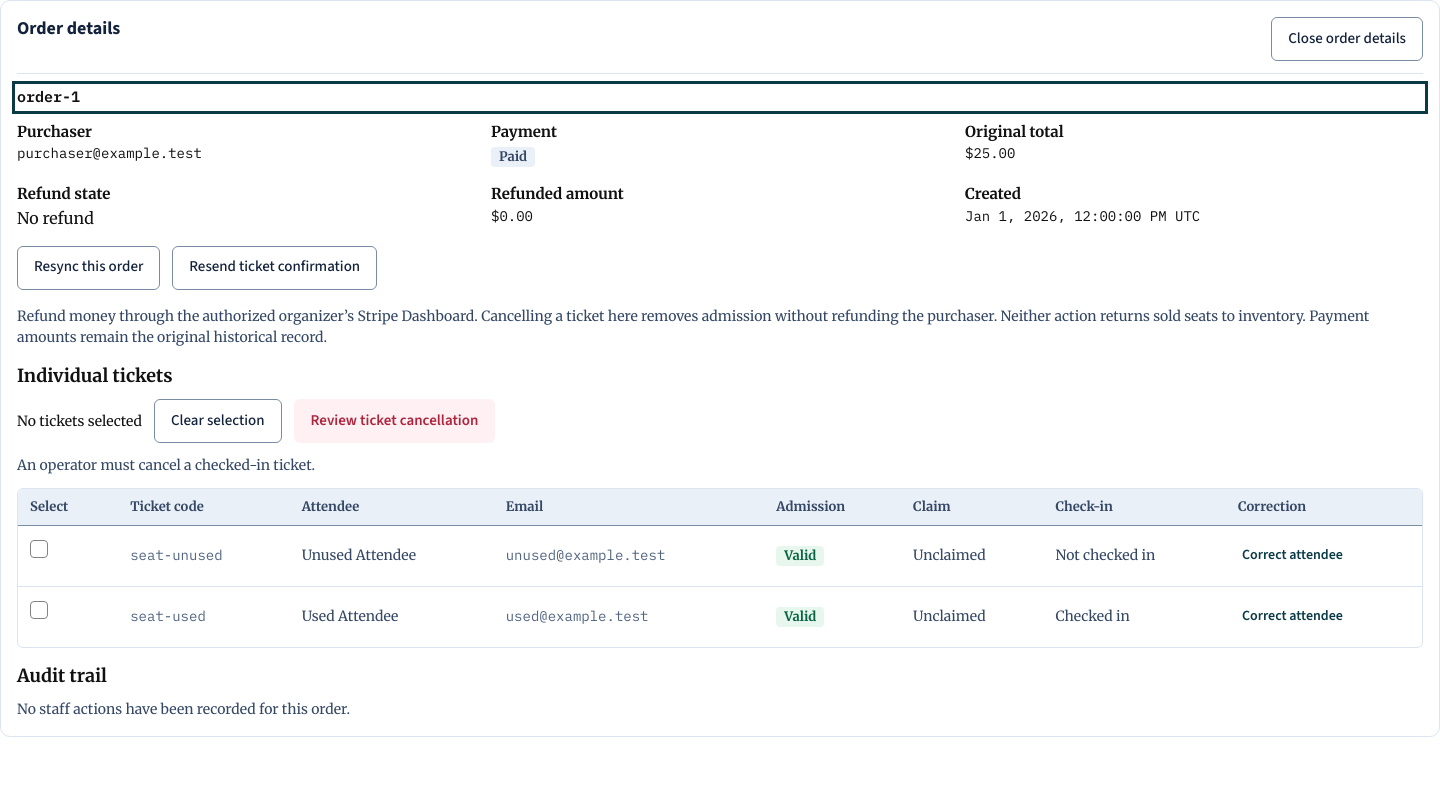
Test: staff cancellation authority › keeps staff selection available to retry when the current order cannot be checked
The width and height of the screenshot is (1440, 810).
Click the checkbox named "Select Unused Attendee" next to "seat-unused" at (39, 549), box [30,540,48,558]
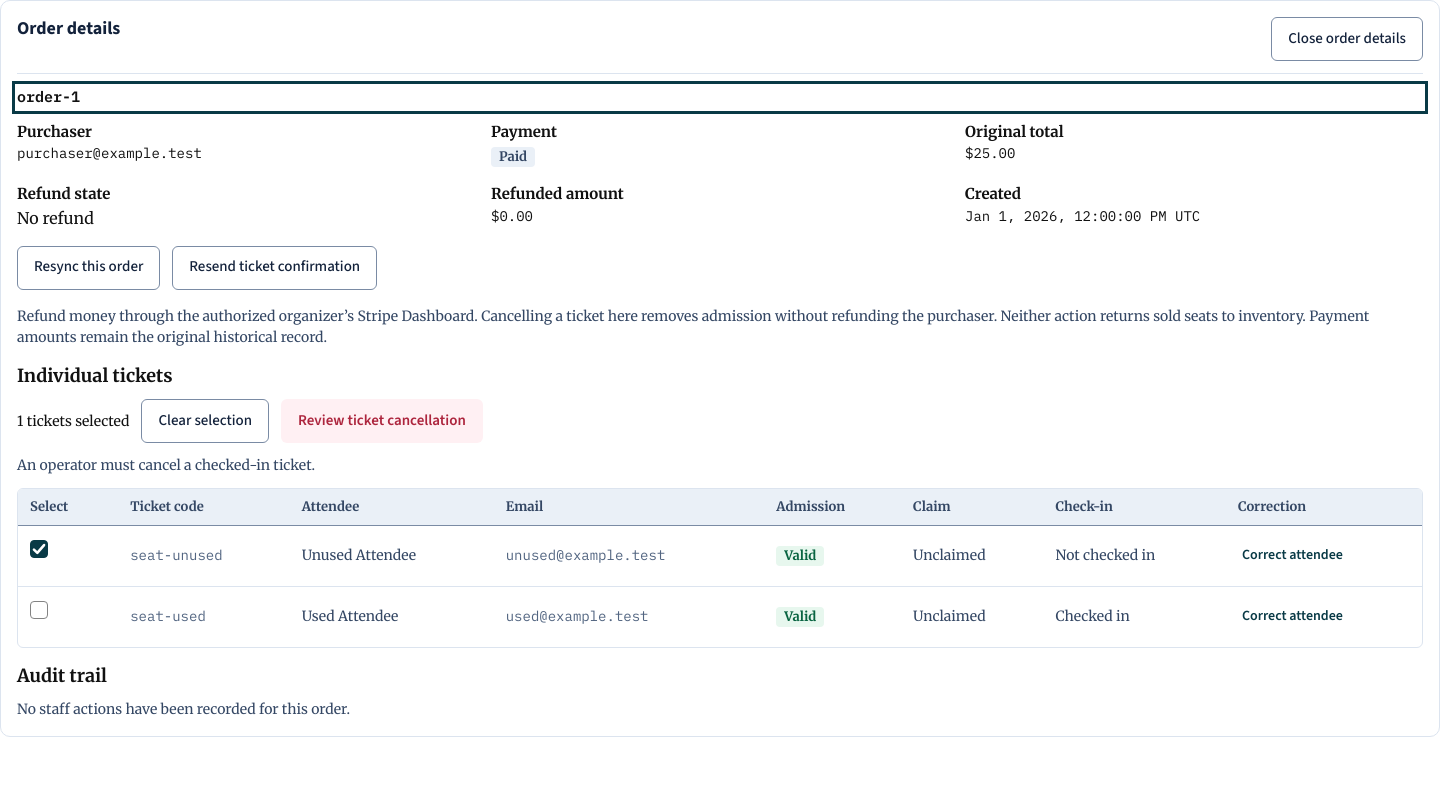
Click the button "Review ticket cancellation" at (382, 421), box [281,399,483,443]
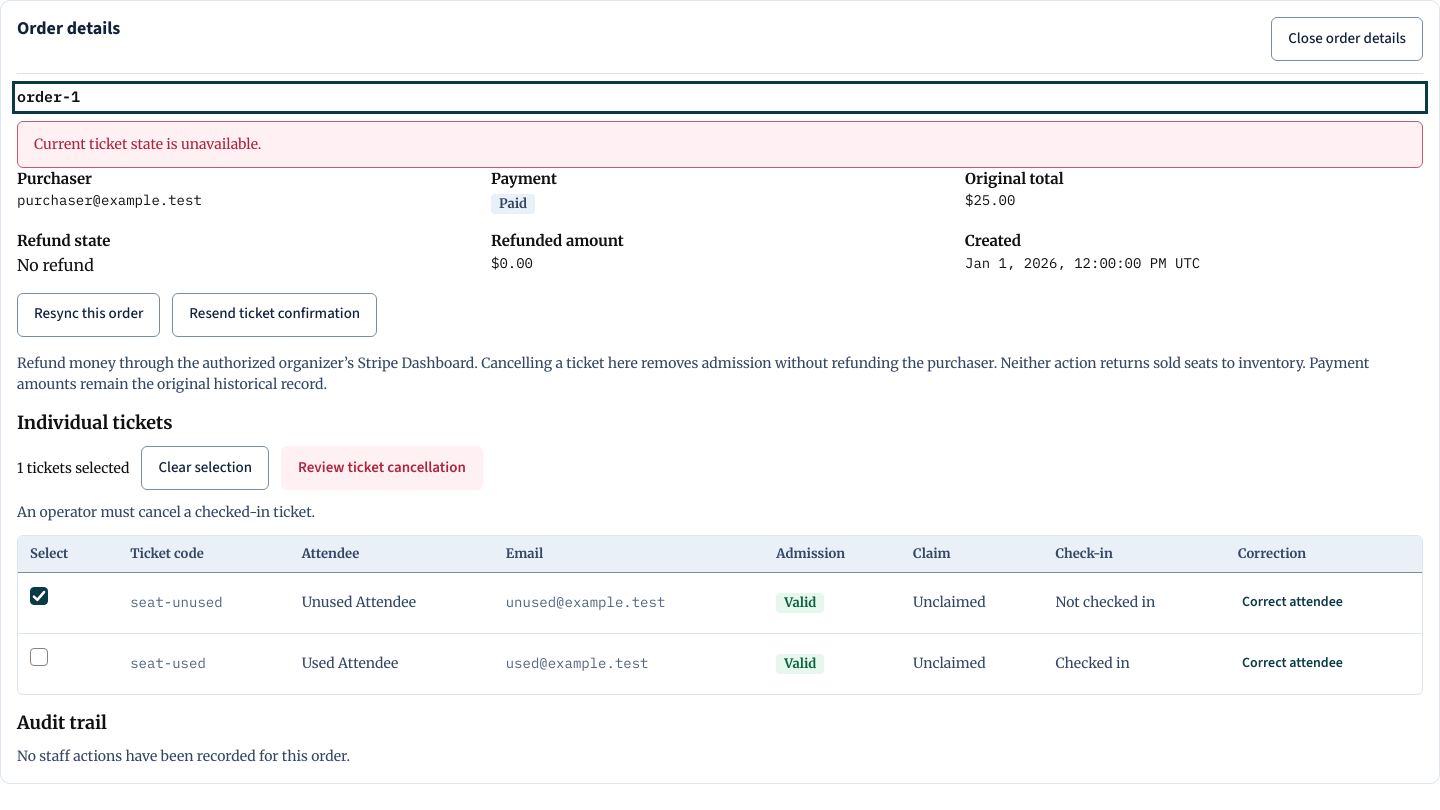
Expected: the checkbox named "Select Unused Attendee" next to "seat-unused" is checked, [30,587,48,605]
Expected: the text "Current ticket state is unavailable." is shown, [17,120,1423,168]
